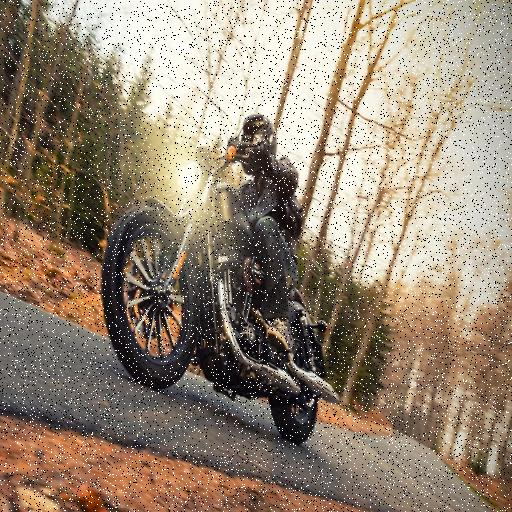Helmet: (241, 115, 277, 156)
Motor: (103, 137, 357, 447)
